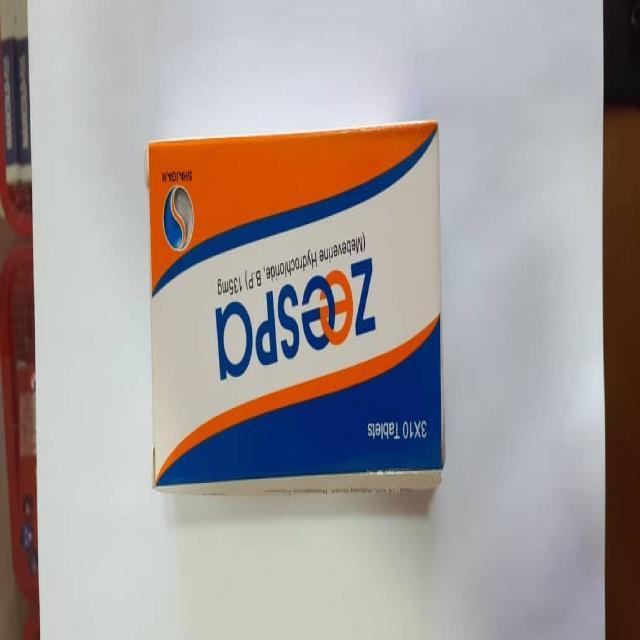drug-name: (208, 255, 377, 385)
